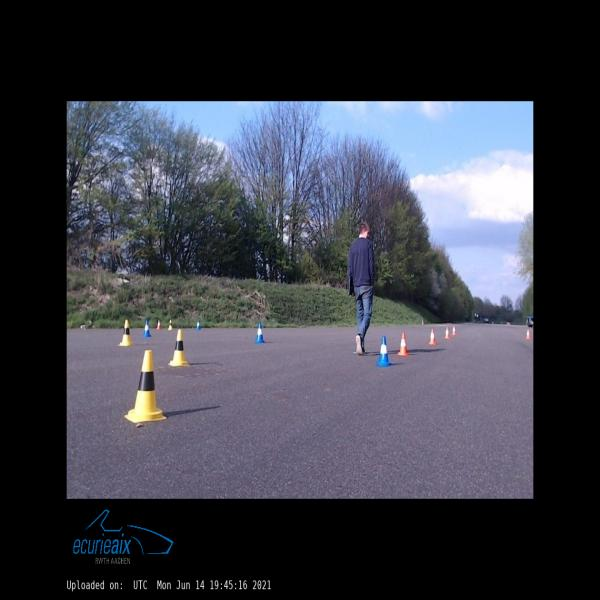blue_cone: (376, 335, 391, 366), (254, 323, 264, 344), (143, 320, 151, 337), (196, 321, 200, 330)
orange_cone: (397, 332, 409, 356), (428, 328, 436, 345), (444, 327, 450, 338), (157, 320, 161, 330), (452, 325, 456, 335), (526, 329, 530, 339)
yellow_cone: (124, 351, 166, 422), (168, 330, 190, 366), (118, 320, 132, 346), (168, 320, 172, 330)
